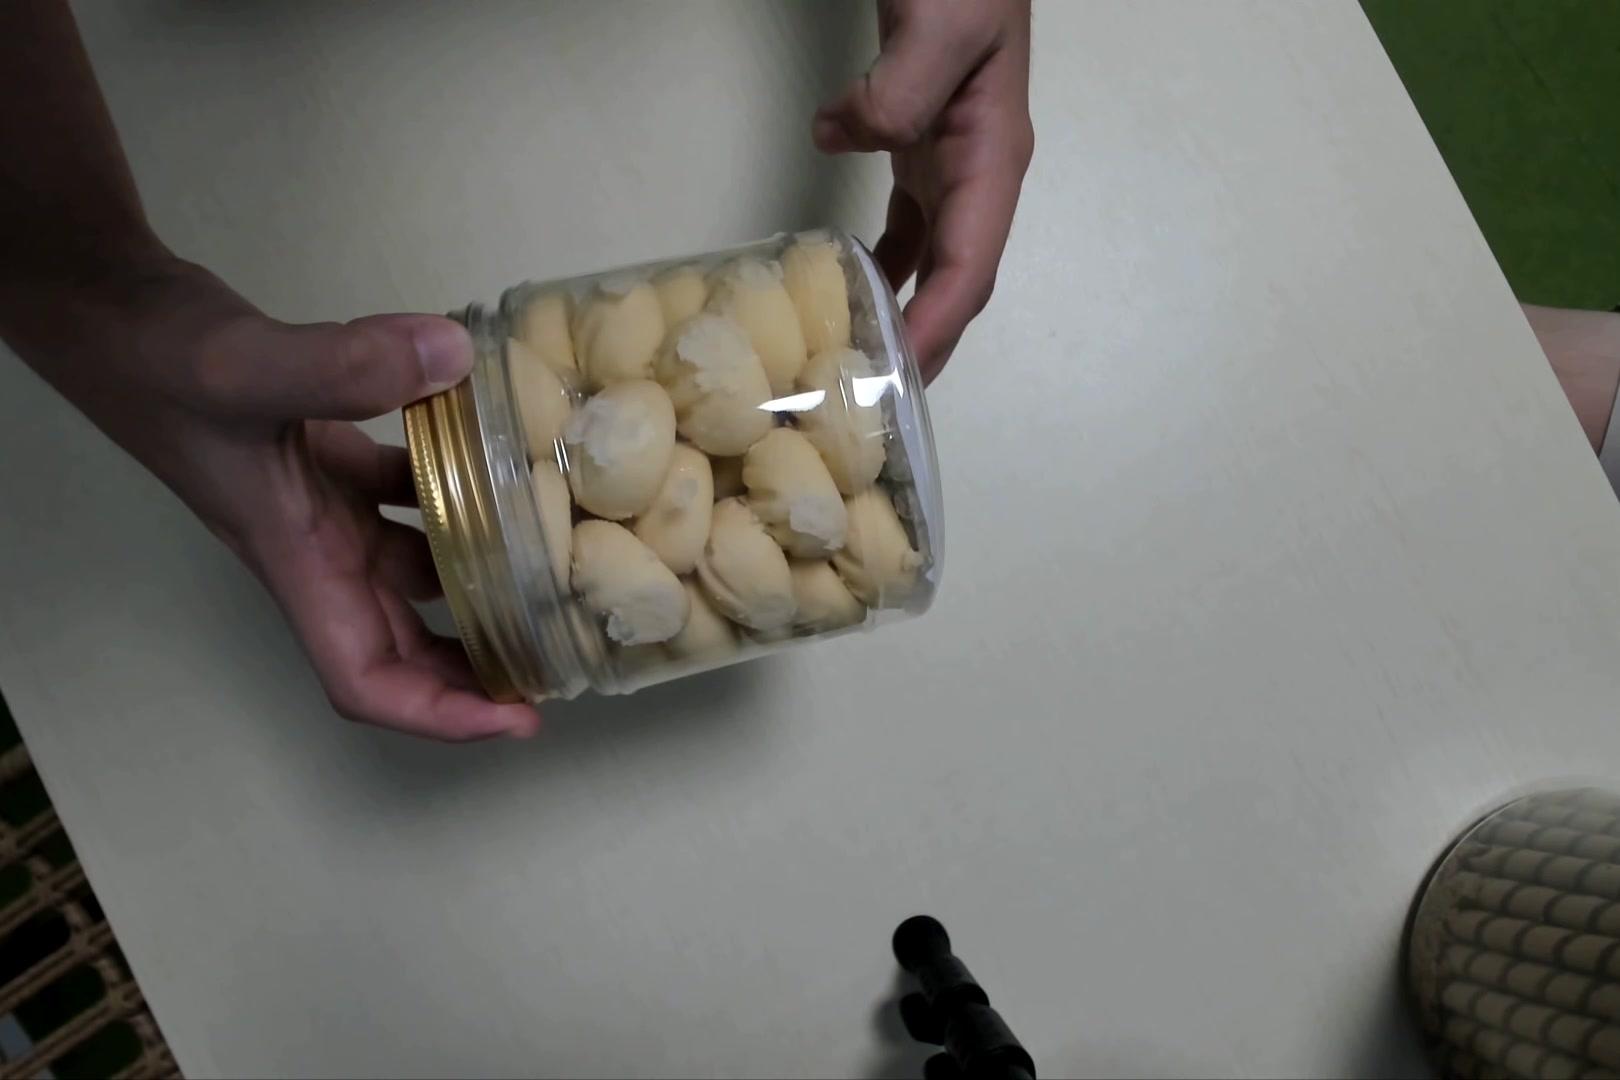BiscuitsCrackersCookies_200-299g_Halal_NonHealthy: (398, 231, 941, 702)
